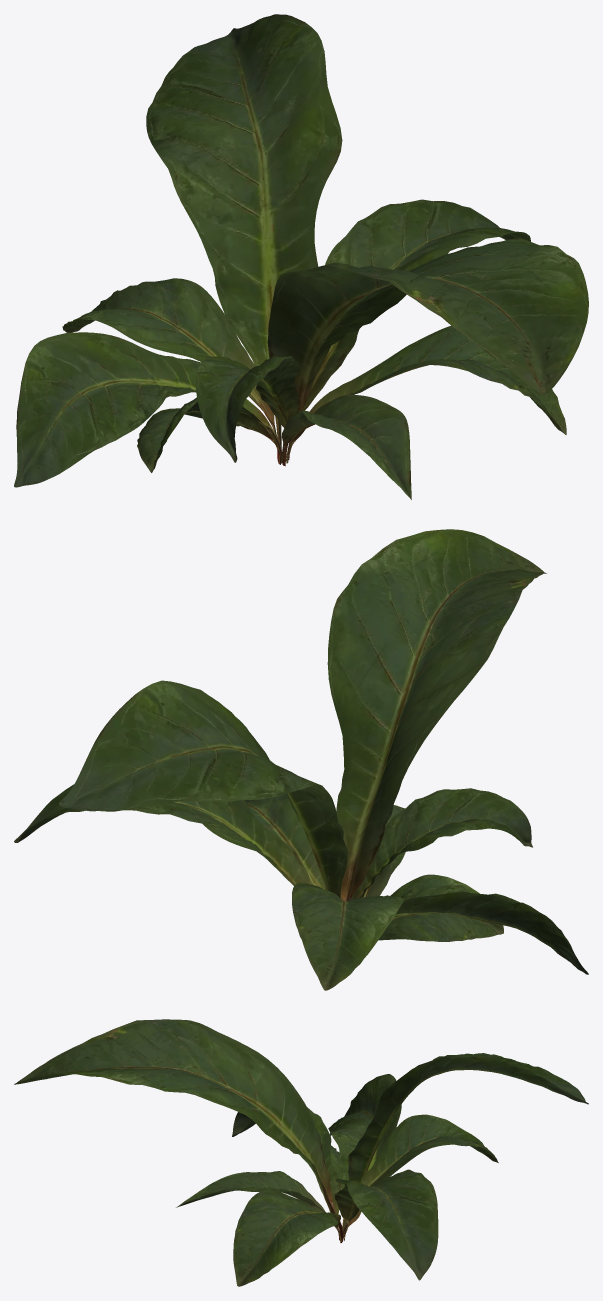
File: anthurium-a.glb
The picture shows the model from 3 angles, top to bottom: view 1: azimuth 30°, elevation 25°; view 2: azimuth 150°, elevation 25°; view 3: azimuth 270°, elevation 25°; orthographic projection. The views are drawn at different scales.
Visible parts, largest first — view 1: anthurium_botany_01_a; view 2: anthurium_botany_01_a; view 3: anthurium_botany_01_a.
Boxes of the visible parts, left/top/right/bottom form: anthurium_botany_01_a: left=14, top=14, right=588, bottom=499; anthurium_botany_01_a: left=14, top=529, right=588, bottom=990; anthurium_botany_01_a: left=14, top=1019, right=588, bottom=1286.
Size of the model in its own units: 0.8963 by 0.4996 by 1.14.
1 material, 1 textured.
